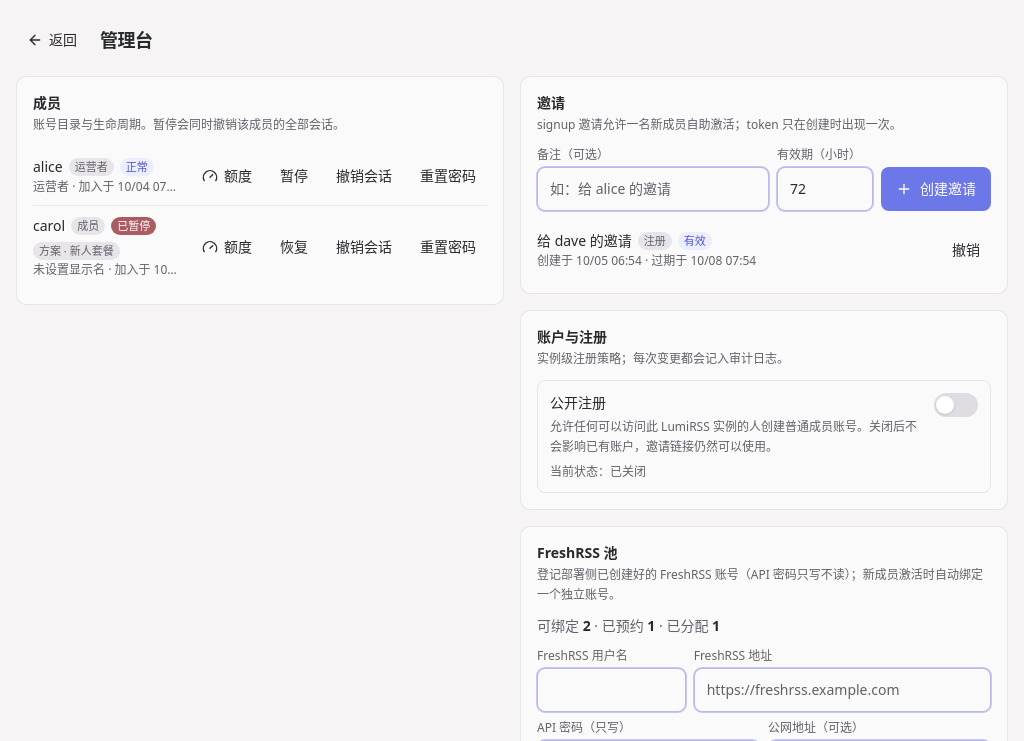
Test: FIX-282 基线：清除选择器值发 null（契约），不发空串 › 成员额度：AI 上限输入清空保存 → payload aiQuotaPerDay=null（非 ''）
Expected: the list with test id "admin-user-list" is shown, top-left (33, 146), bottom-right (487, 288)
Click the button with test id "quota-open-carol" at point(227, 246), box top-left (191, 230), bottom-right (263, 262)
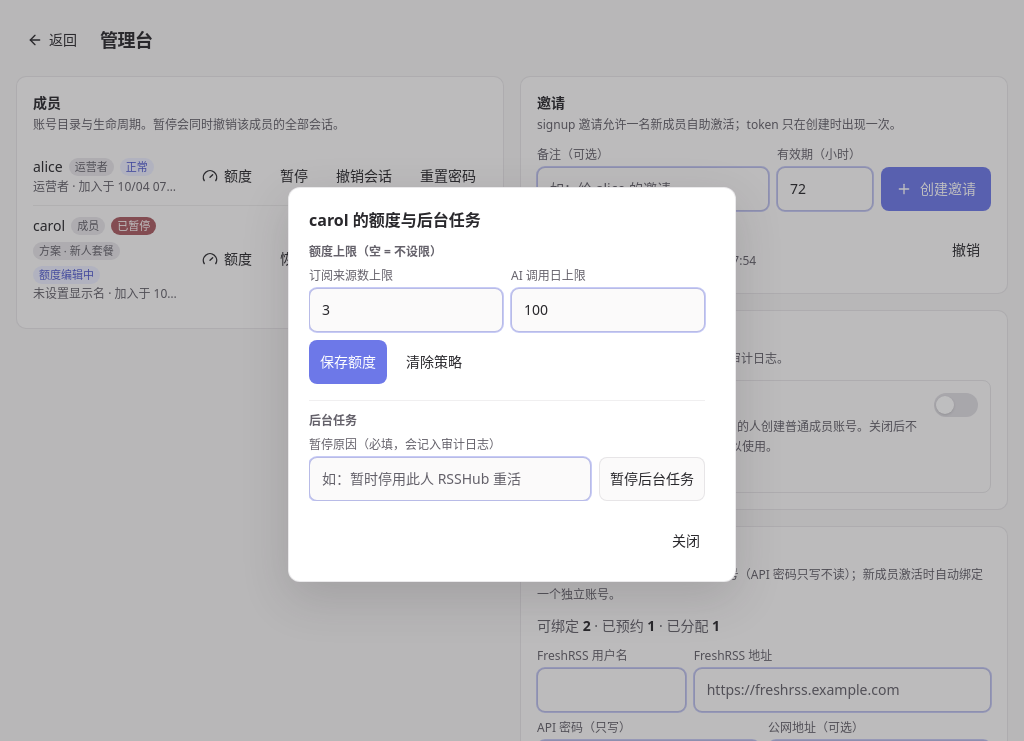
Clear the number field with test id "quota-ai-per-day" at point(608, 310), box top-left (511, 288), bottom-right (705, 332)
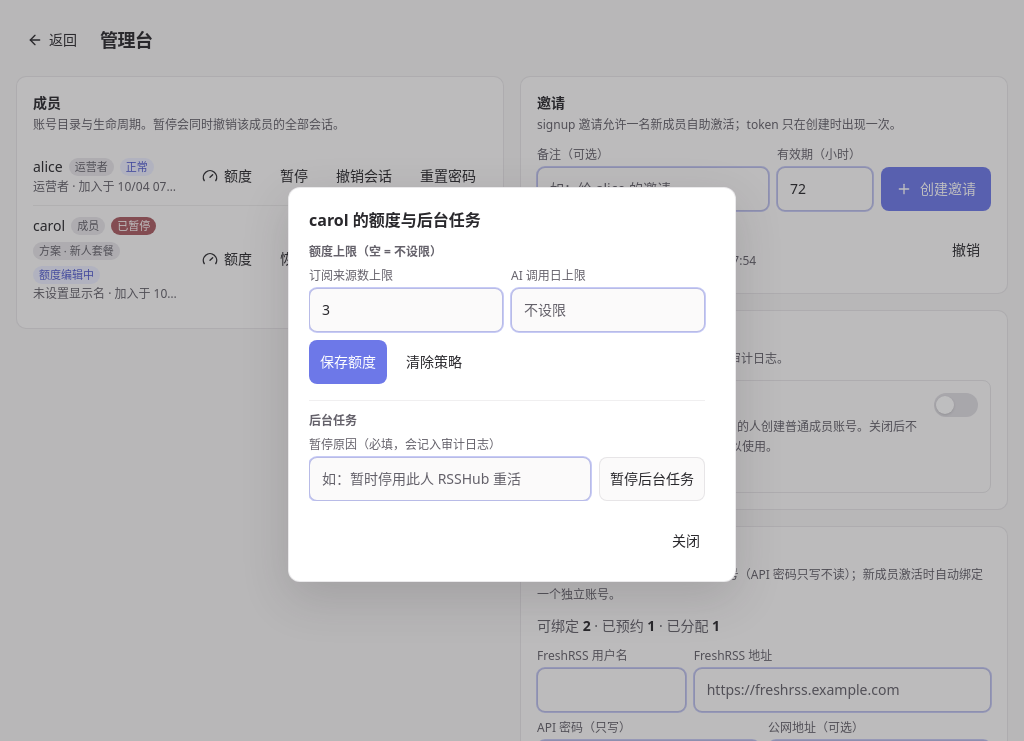
Click the button "保存额度" at point(348, 362), box top-left (309, 340), bottom-right (387, 384)
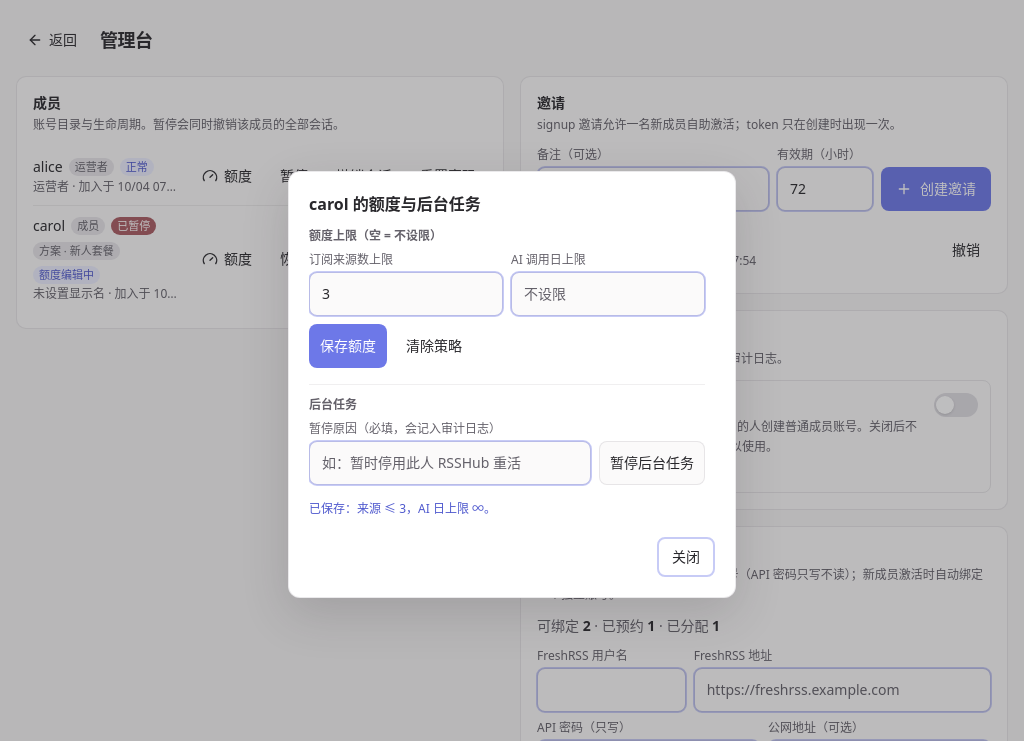
Expected: the message "已保存：来源 ≤ 3，AI 日上限 ∞。" is shown, top-left (309, 500), bottom-right (496, 516)
